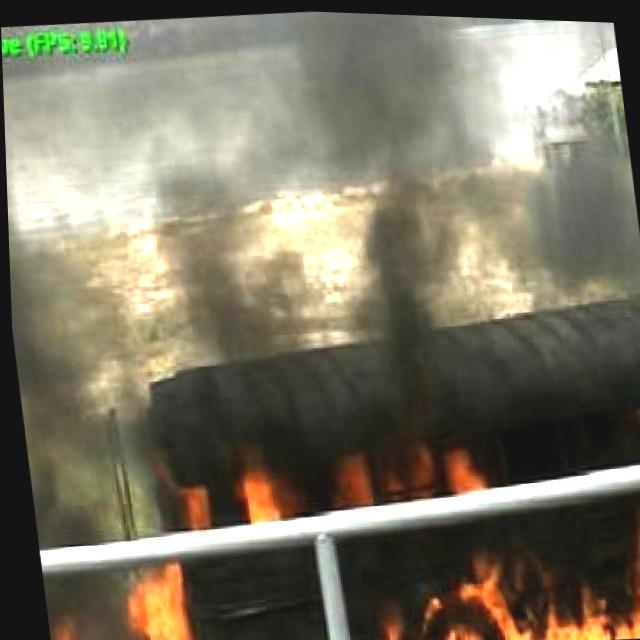Fire: (344, 518, 640, 640), (178, 441, 478, 522), (43, 574, 214, 640)
Smoke: (3, 93, 640, 405), (128, 4, 621, 149), (16, 381, 177, 541)
